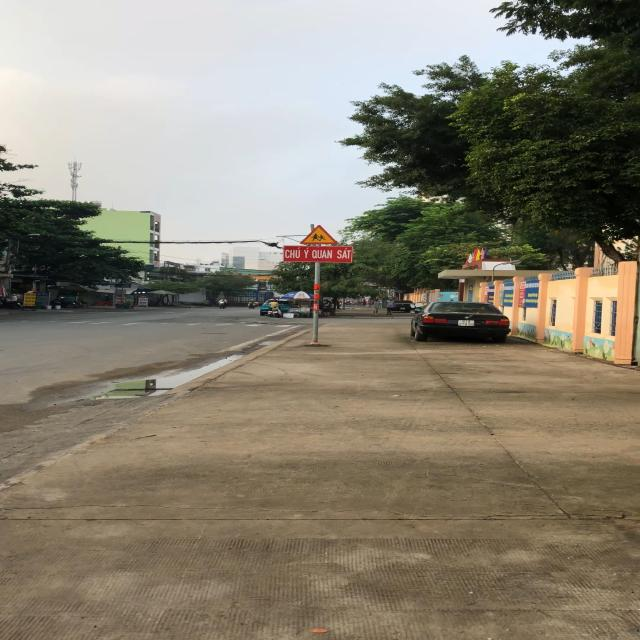Bien bao tre em: (298, 223, 343, 246)
